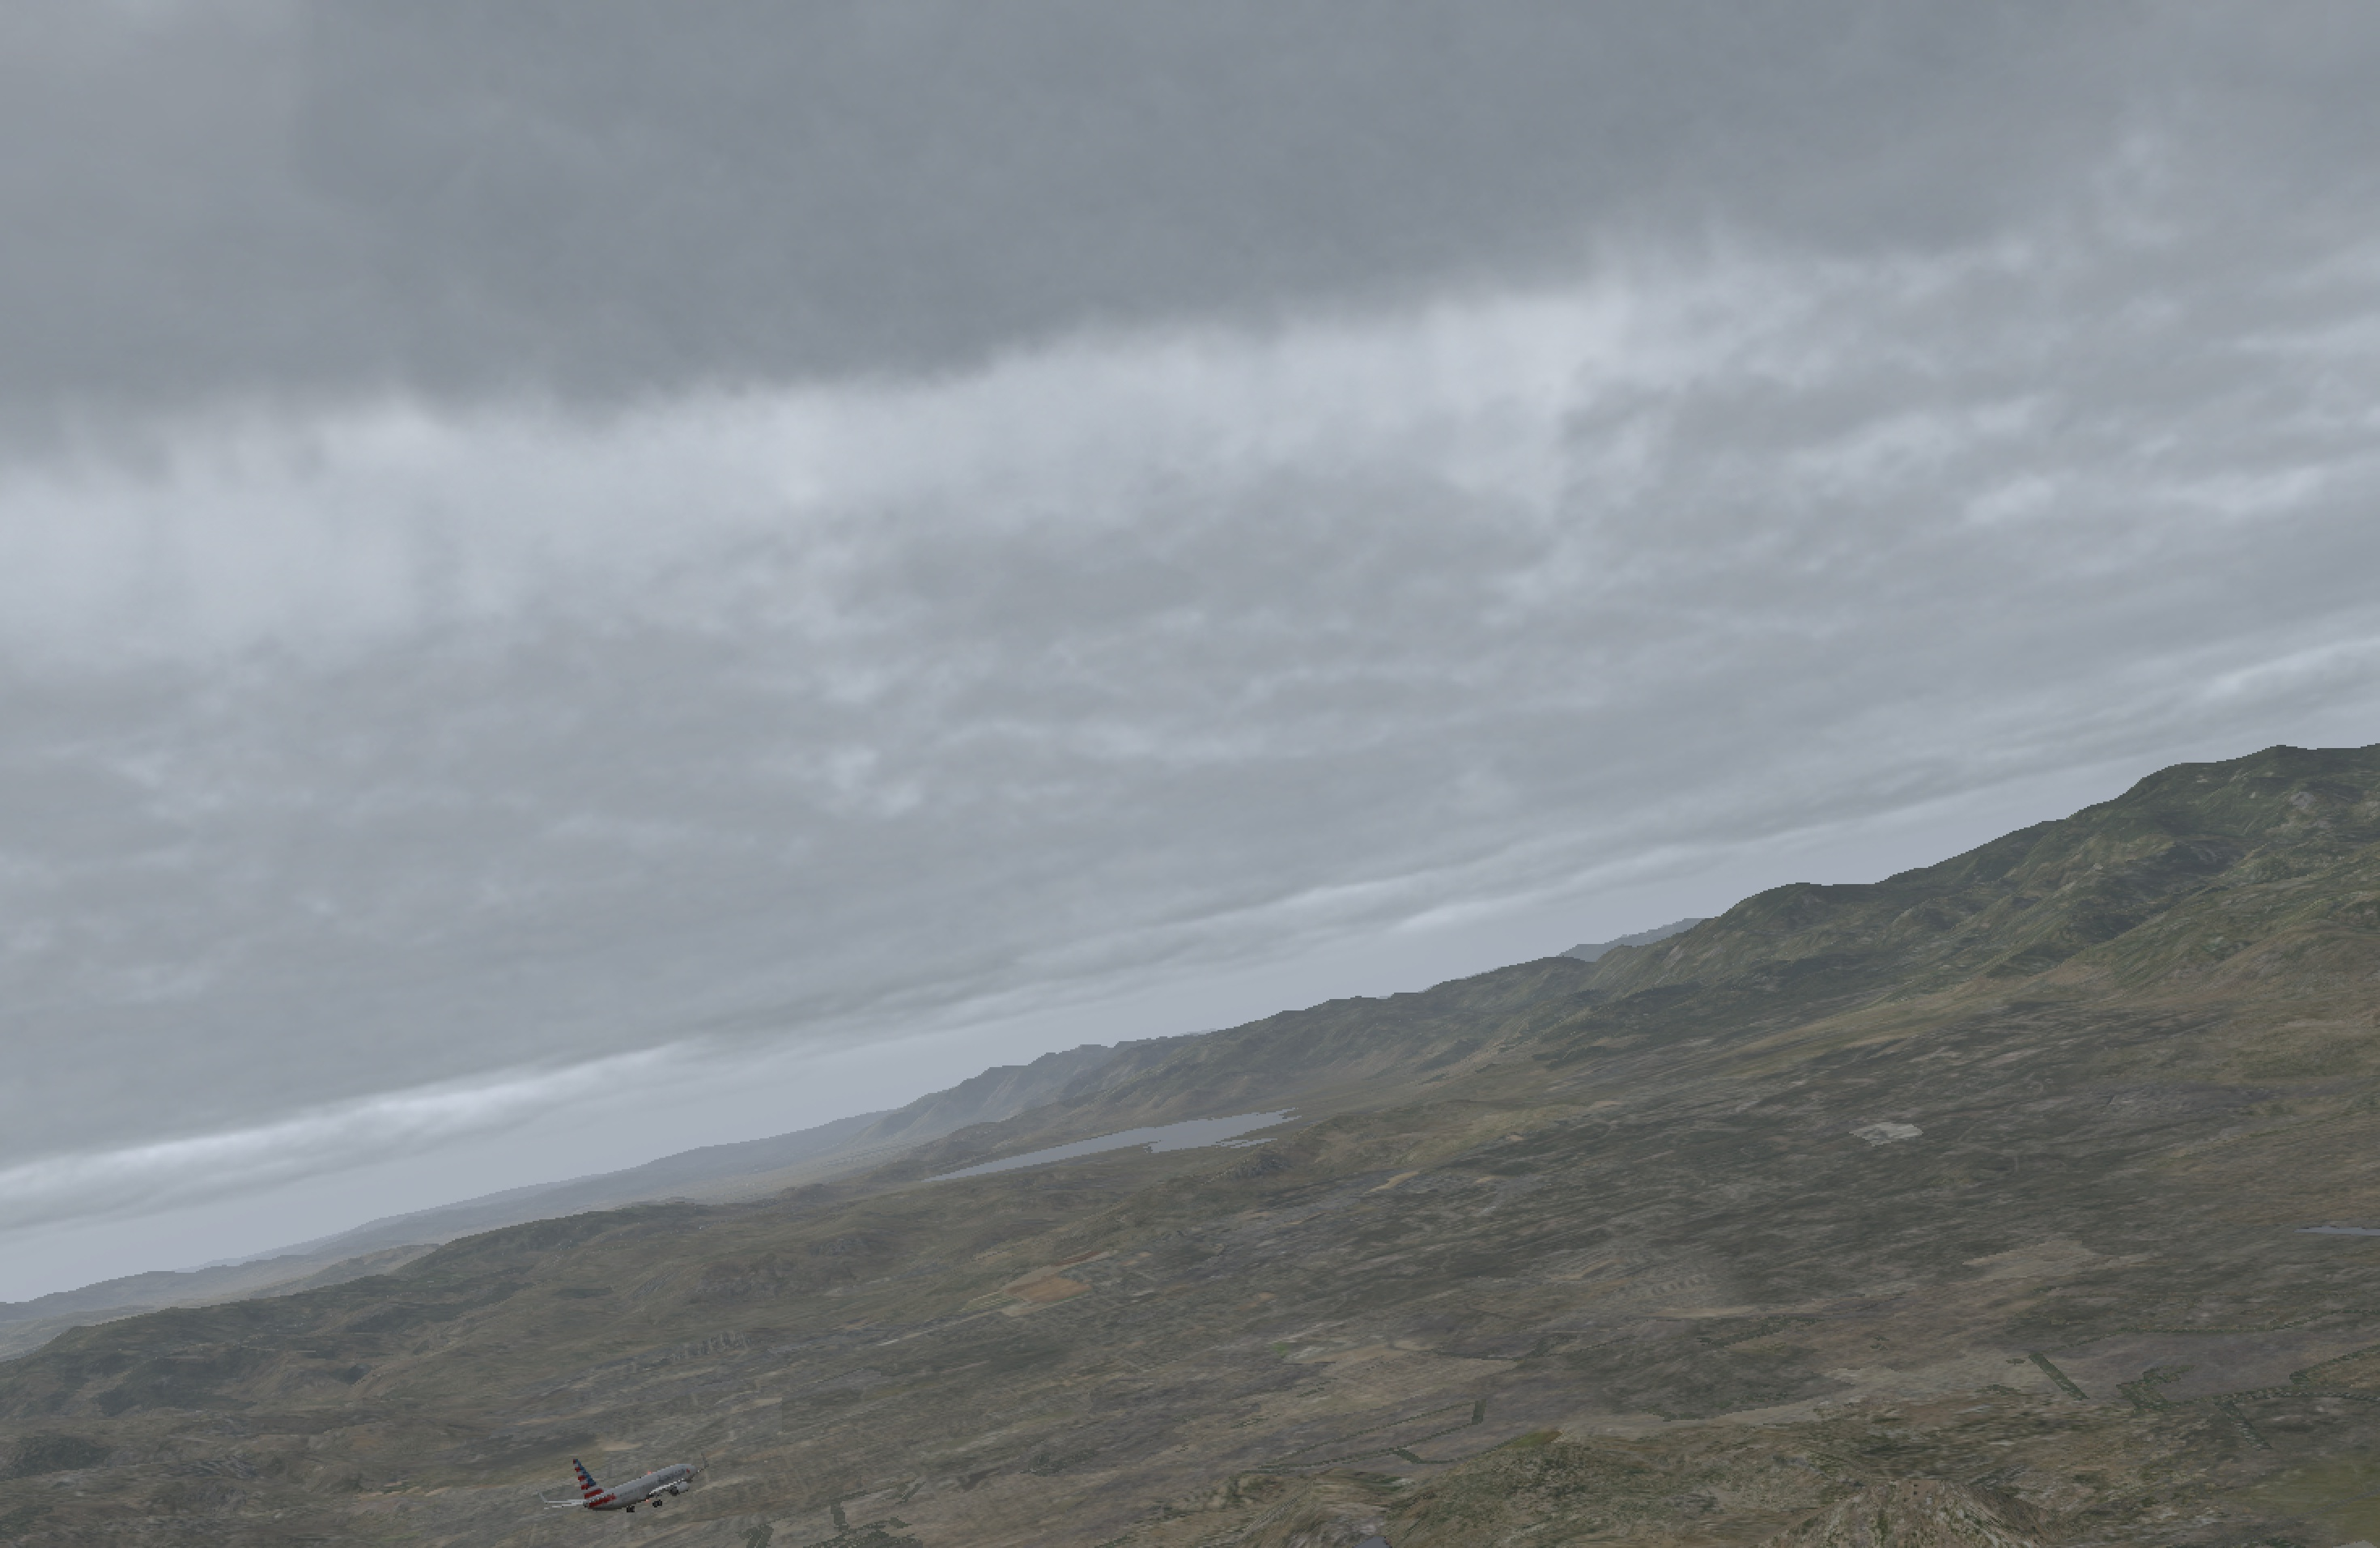aircraft: (548, 1454, 744, 1527)
